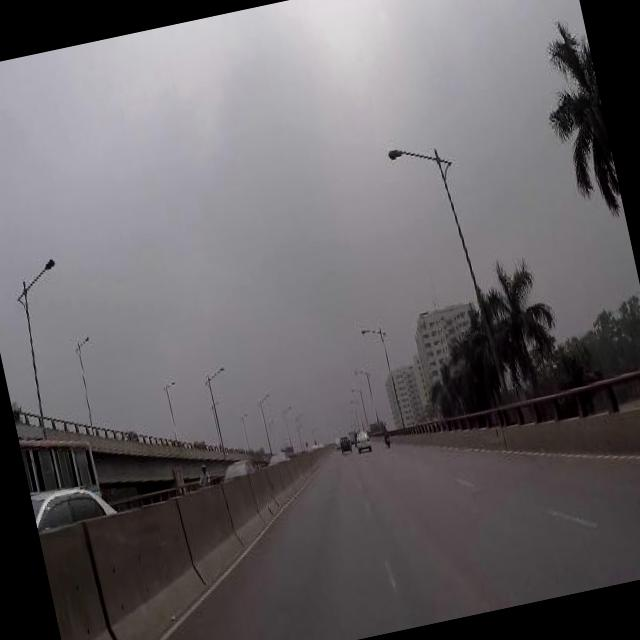bus: (18, 414, 102, 504)
car: (31, 473, 120, 538), (220, 456, 258, 478), (356, 428, 372, 450), (265, 450, 290, 464), (122, 428, 140, 442), (340, 436, 352, 450), (336, 434, 342, 447)
motorcycle: (382, 420, 392, 444), (196, 474, 212, 486)
